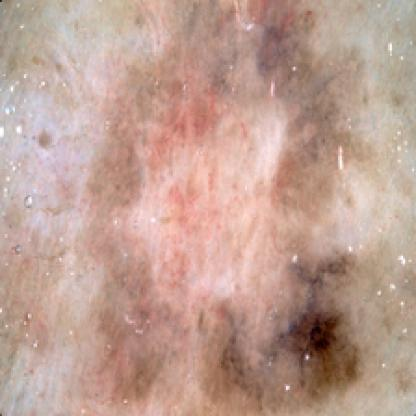malignant: (139, 59, 370, 392)
